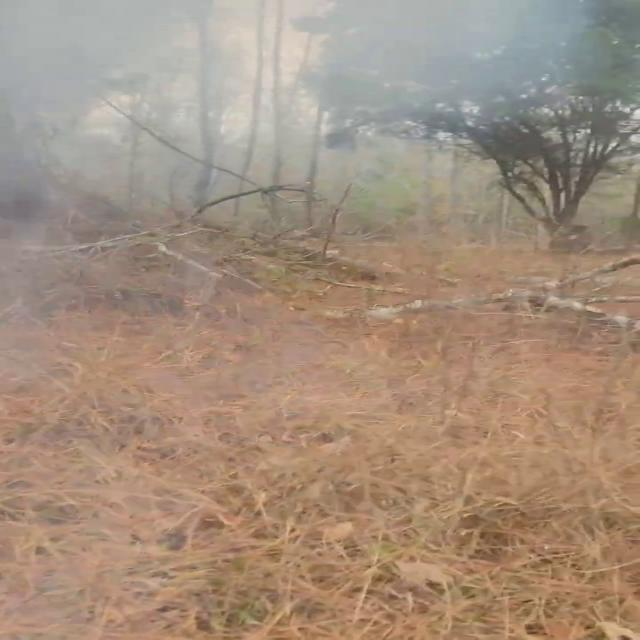Smoke: (1, 0, 633, 300)
